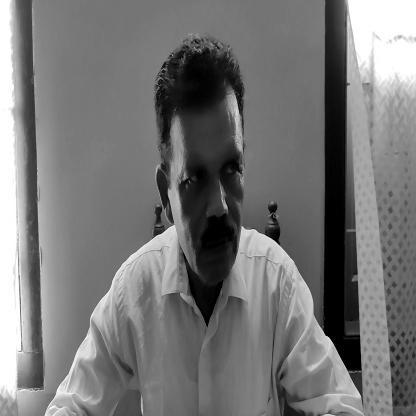Distracted: (160, 49, 249, 284)
